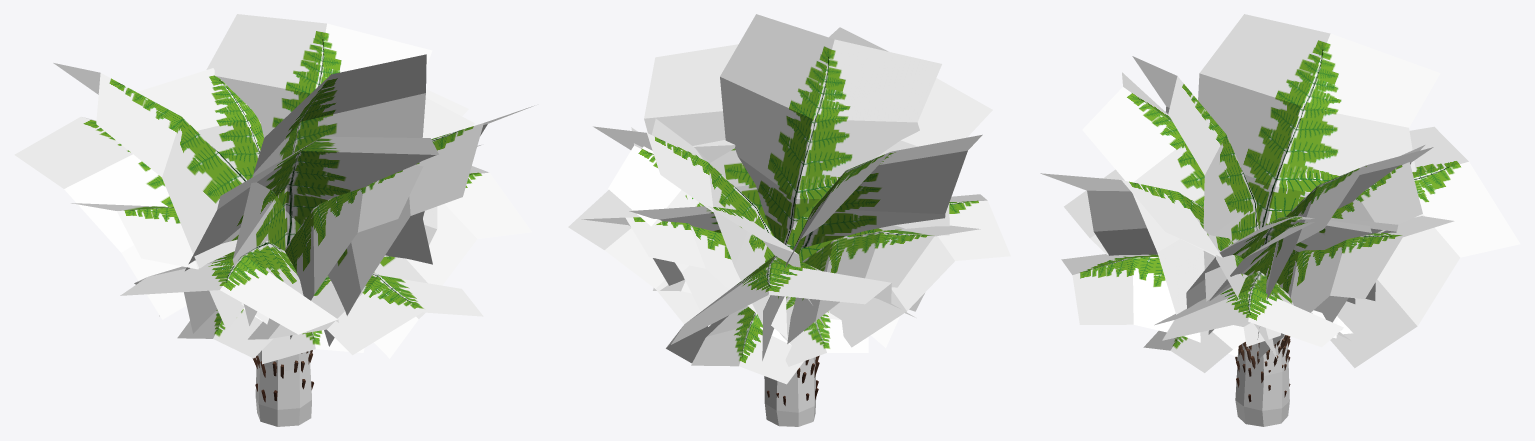
The model's file is dicksonia_antarctica_short.fbx.
3 renders of one model, left to right at view 1: azimuth 30°, elevation 25°; view 2: azimuth 150°, elevation 25°; view 3: azimuth 270°, elevation 25°, orthographic. The views are drawn at different scales.
Visible parts, largest first — view 1: dicksonia_antarctica_fern_short_LOD0, dicksonia_antarctica_short_LOD0; view 2: dicksonia_antarctica_fern_short_LOD0, dicksonia_antarctica_short_LOD0; view 3: dicksonia_antarctica_fern_short_LOD0, dicksonia_antarctica_short_LOD0.
Part boxes in pixels (x1,y1,x2,y2): dicksonia_antarctica_fern_short_LOD0: (14, 14, 534, 364); dicksonia_antarctica_short_LOD0: (252, 350, 313, 426); dicksonia_antarctica_fern_short_LOD0: (568, 14, 1010, 384); dicksonia_antarctica_short_LOD0: (764, 355, 819, 426); dicksonia_antarctica_fern_short_LOD0: (1040, 14, 1520, 372); dicksonia_antarctica_short_LOD0: (1235, 335, 1290, 426).
Size of what is drawn, in the model's own units: 646 by 566 by 722.
